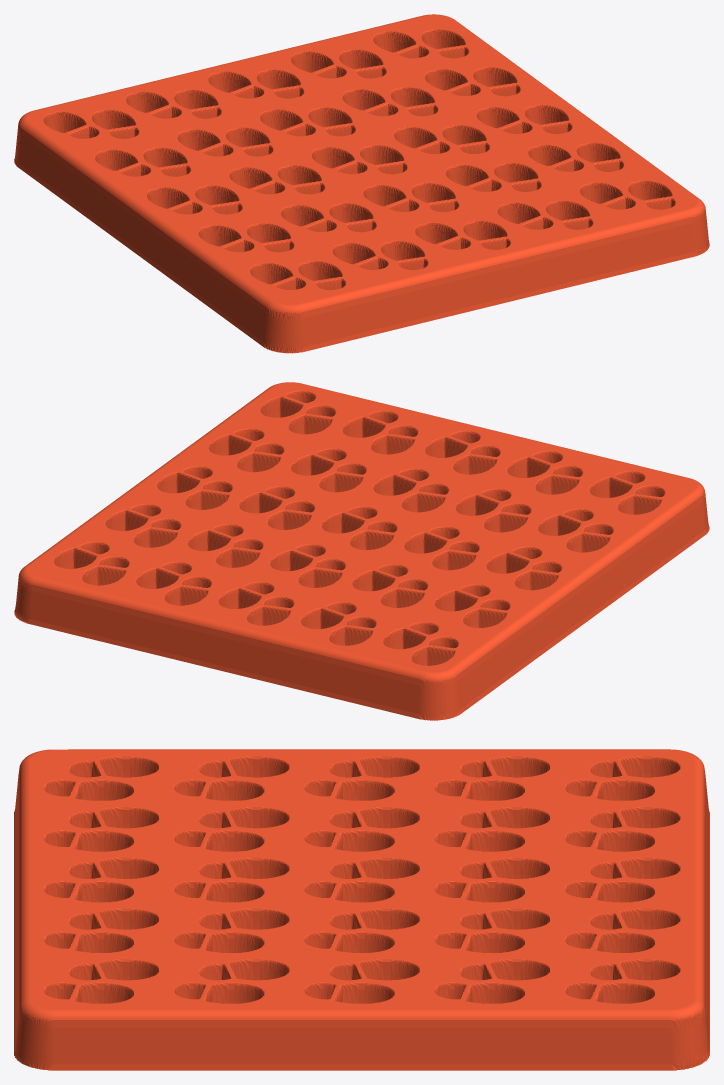
Rendered from mold.glb.
3 renders of one model, top to bottom at view 1: azimuth 30°, elevation 25°; view 2: azimuth 150°, elevation 25°; view 3: azimuth 270°, elevation 25°, orthographic. The views are drawn at different scales.
Visible parts, largest first — view 1: geometry_0; view 2: geometry_0; view 3: geometry_0.
Part boxes in pixels (x1,y1,x2,y2): geometry_0: [14, 14, 709, 353]; geometry_0: [14, 382, 709, 720]; geometry_0: [14, 749, 709, 1070].
Bounding box in the file's own units: 0.1467 × 0.0136 × 0.1584.
